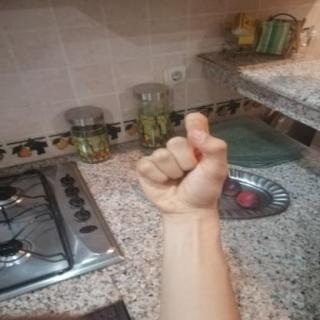FAA: (122, 105, 242, 224)
